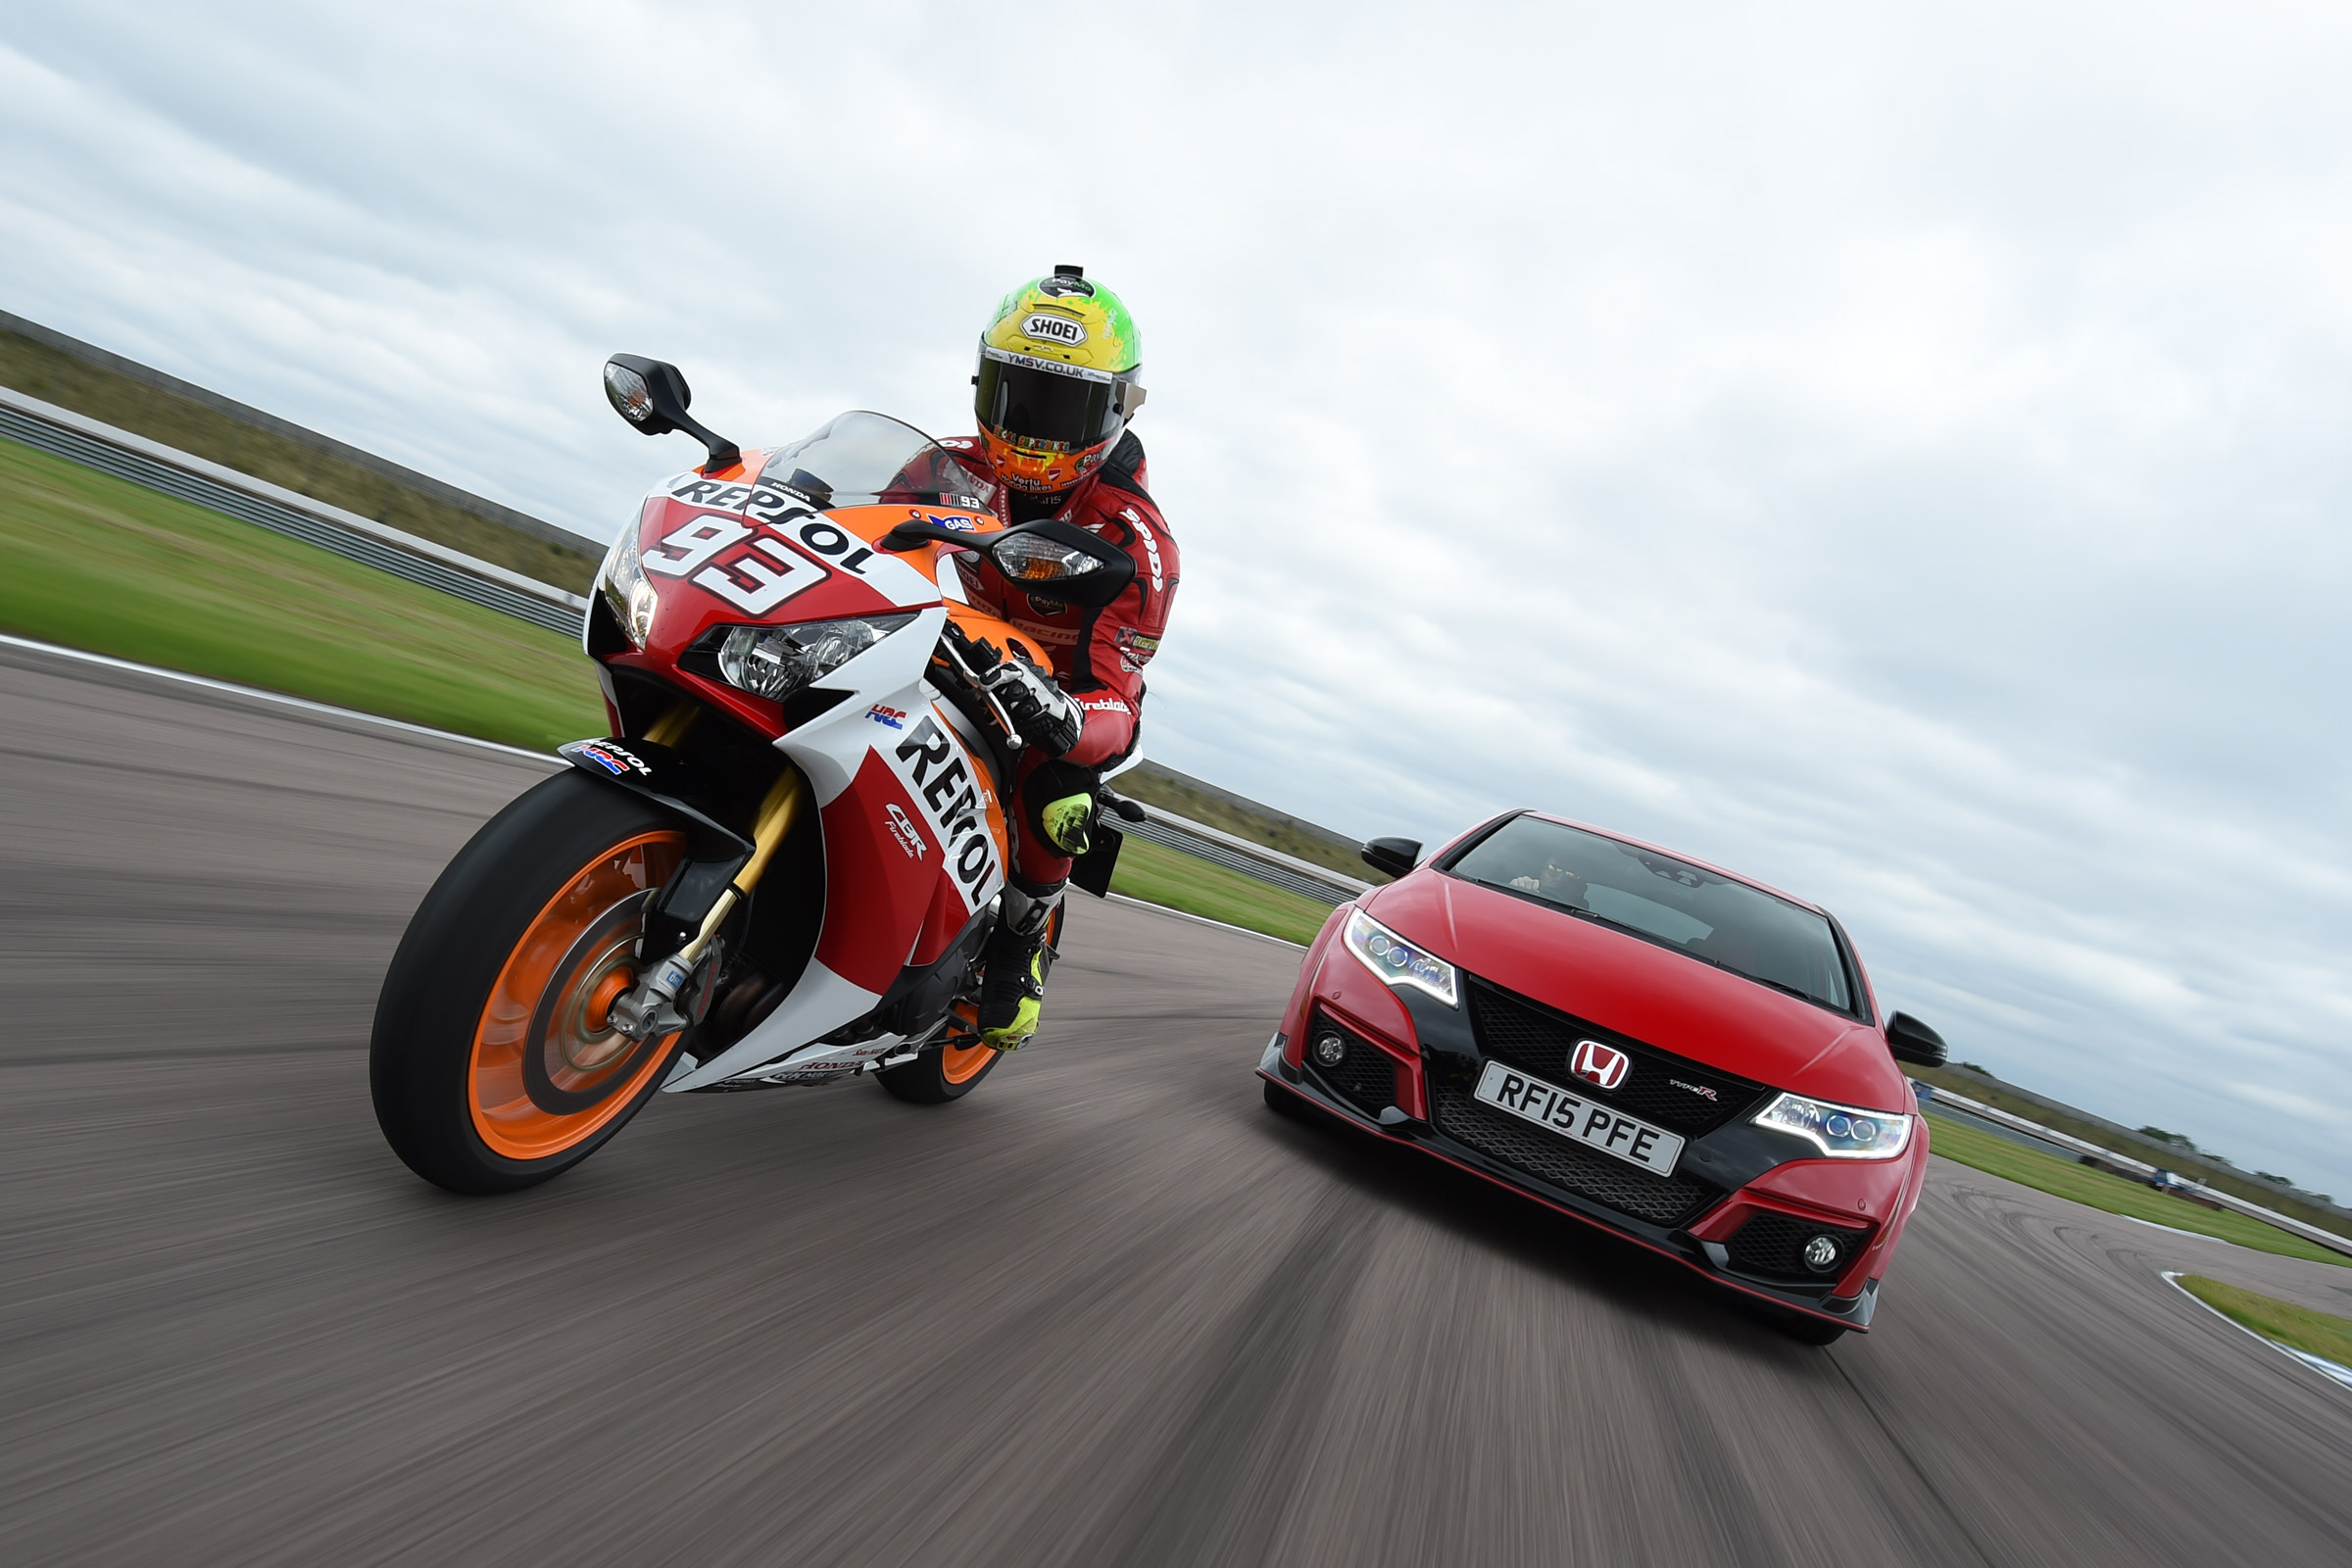car: (1221, 777, 1948, 1395)
motorcycle: (331, 228, 1190, 1256)
